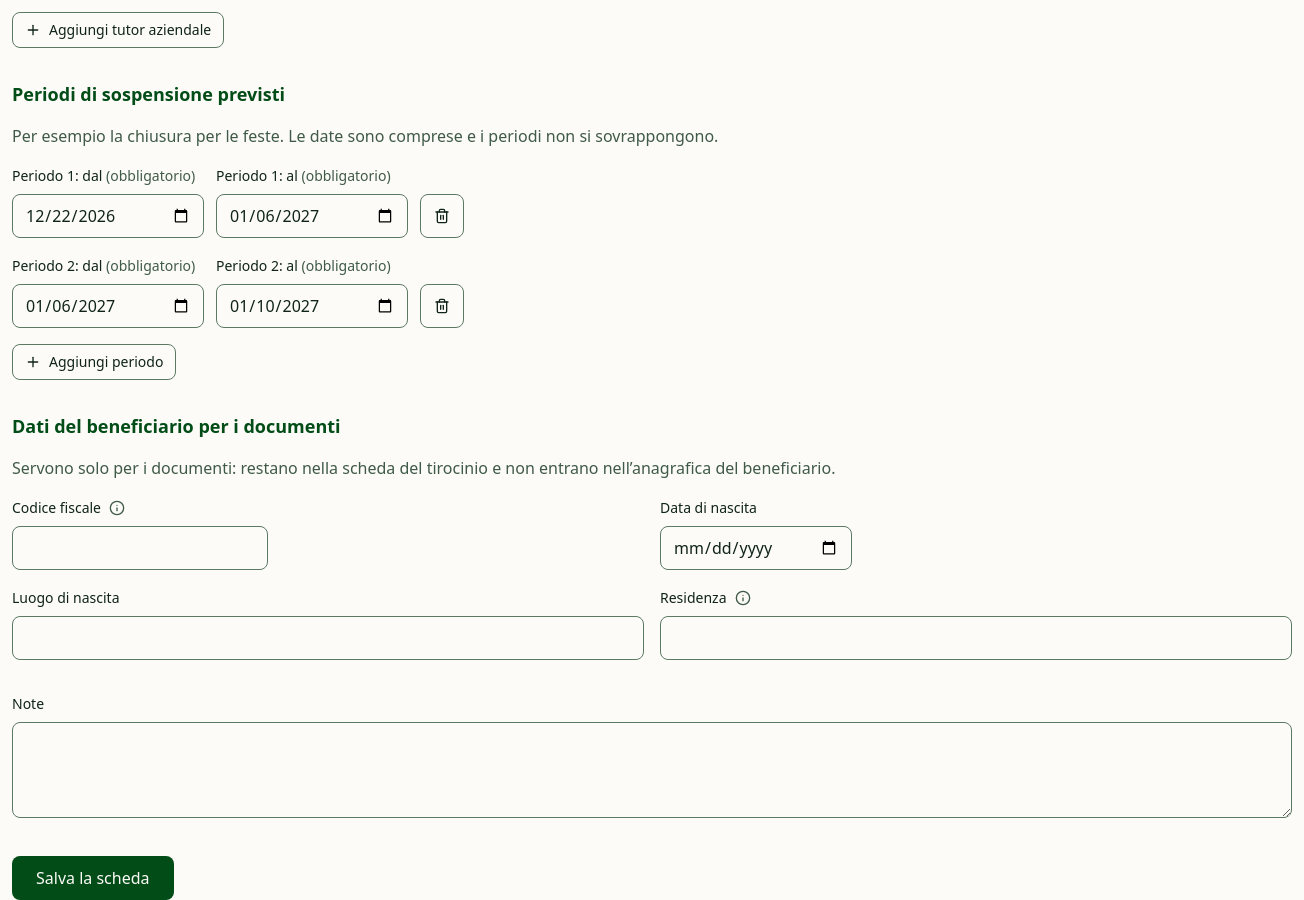
Test: <InternshipForm> › controlli prima dell’invio: date nell’ordine giusto e periodi senza sovrapposizioni
(page scrolled)
Click the button "Salva la scheda" at (93, 878), box [12,856,174,899]
(page scrolled)
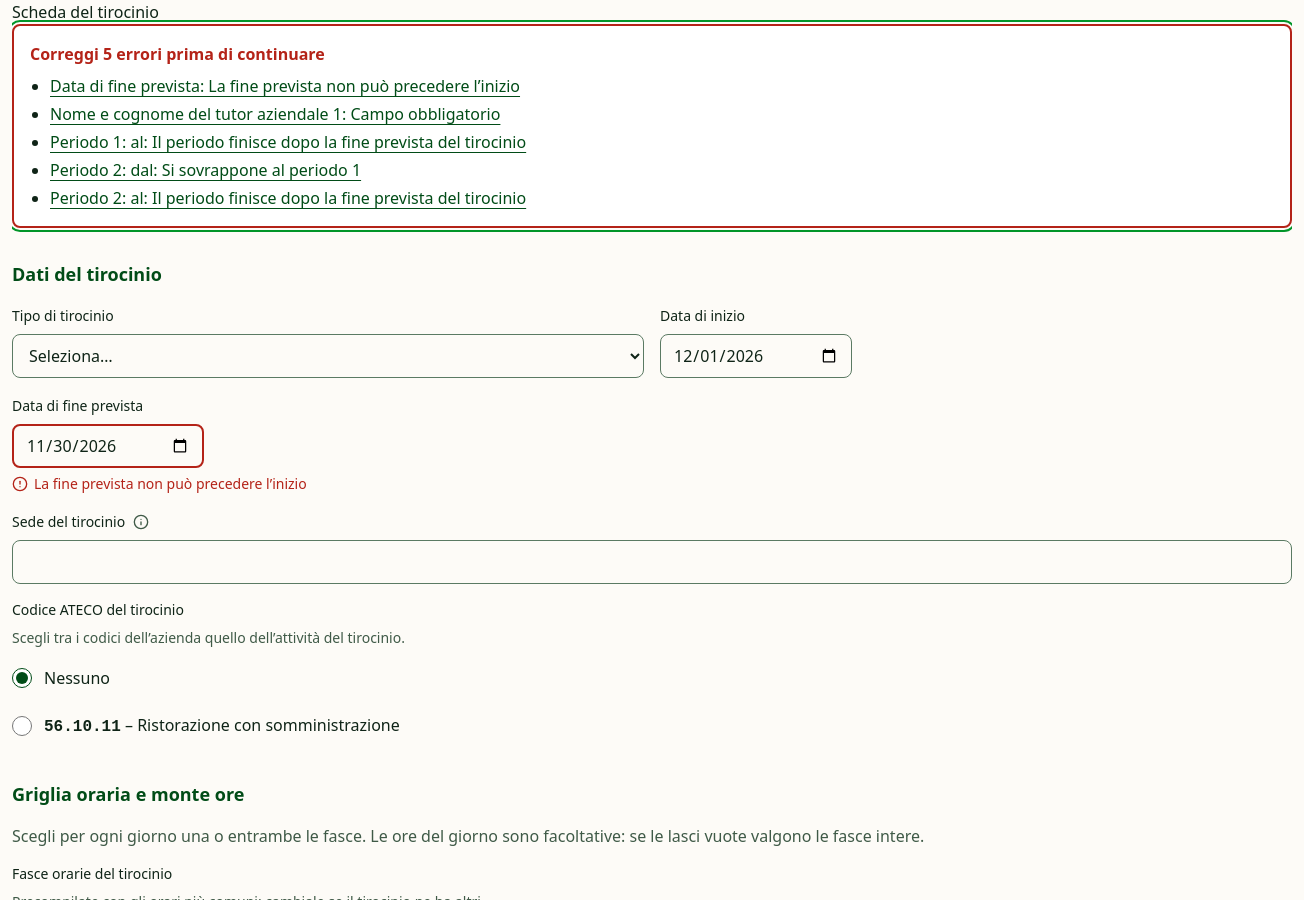
Check: the link "Data di fine prevista: La fine prevista non può precedere l’inizio" is shown, box [50,75,520,97]
Check: the link "Nome e cognome del tutor aziendale 1: Campo obbligatorio" is shown, box [50,103,500,125]
Check: the link "Periodo 2: dal: Si sovrappone al periodo 1" is shown, box [50,159,361,181]
